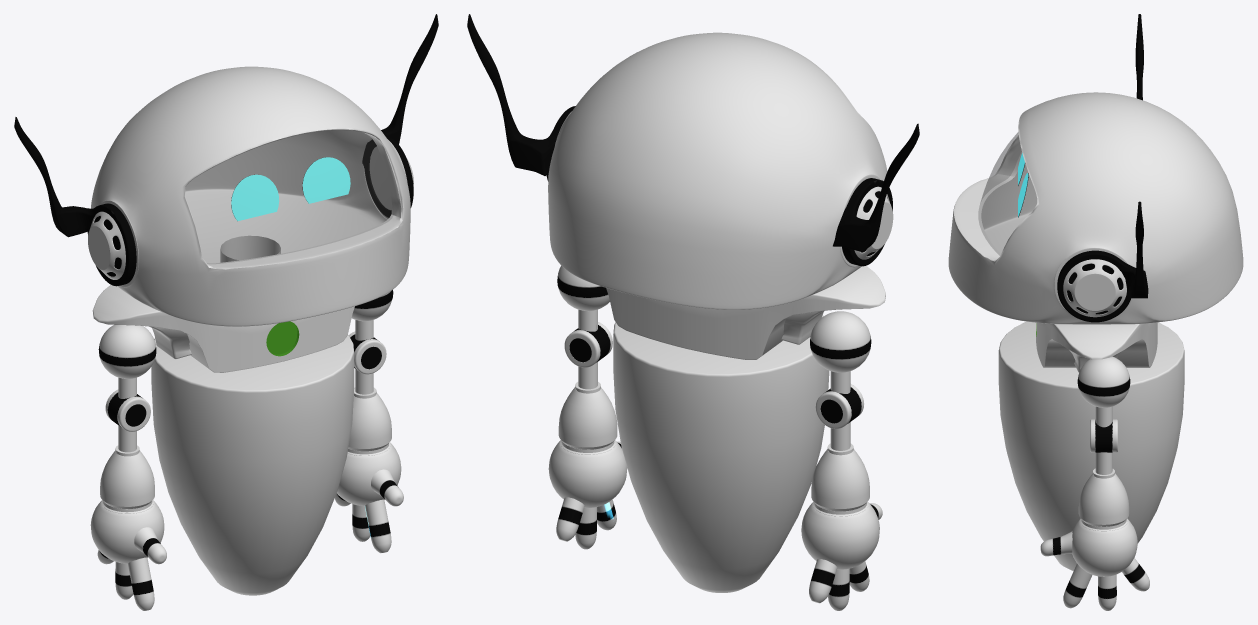
File: Robot.glb
3 renders of one model, left to right at view 1: azimuth 30°, elevation 25°; view 2: azimuth 150°, elevation 25°; view 3: azimuth 270°, elevation 25°, orthographic. The views are drawn at different scales.
Visible parts, largest first — view 1: Robot T1; view 2: Robot T1; view 3: Robot T1.
Part boxes in pixels (<box>): Robot T1: <box>14,14,438,610</box>; Robot T1: <box>467,14,919,610</box>; Robot T1: <box>948,14,1243,610</box>.
Bounding box in the file's own units: 116 × 133 × 76.69.
2 materials, 1 textured.
